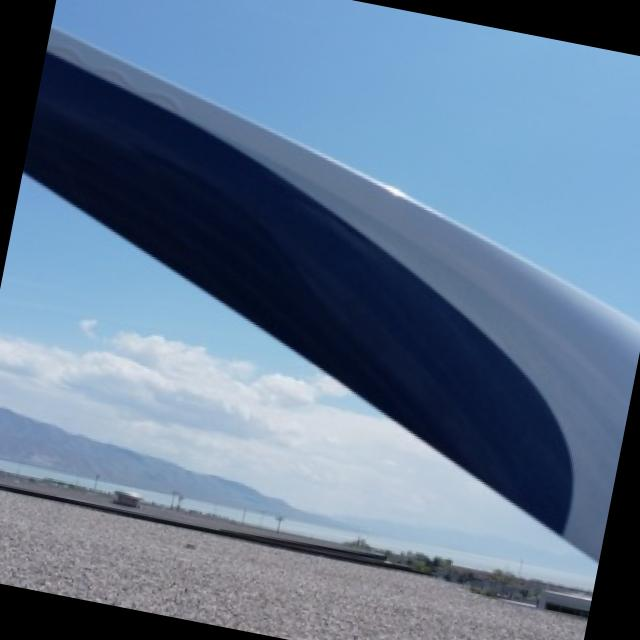healthy: (25, 25, 640, 557)
